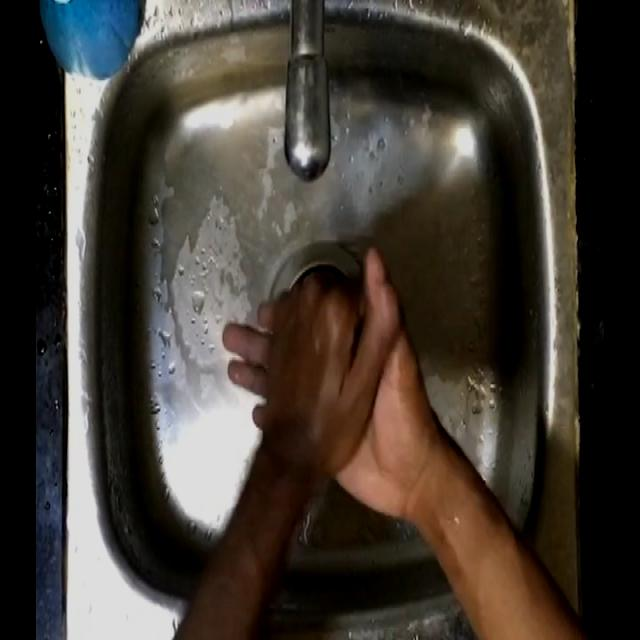step_5: (217, 242, 425, 520)
